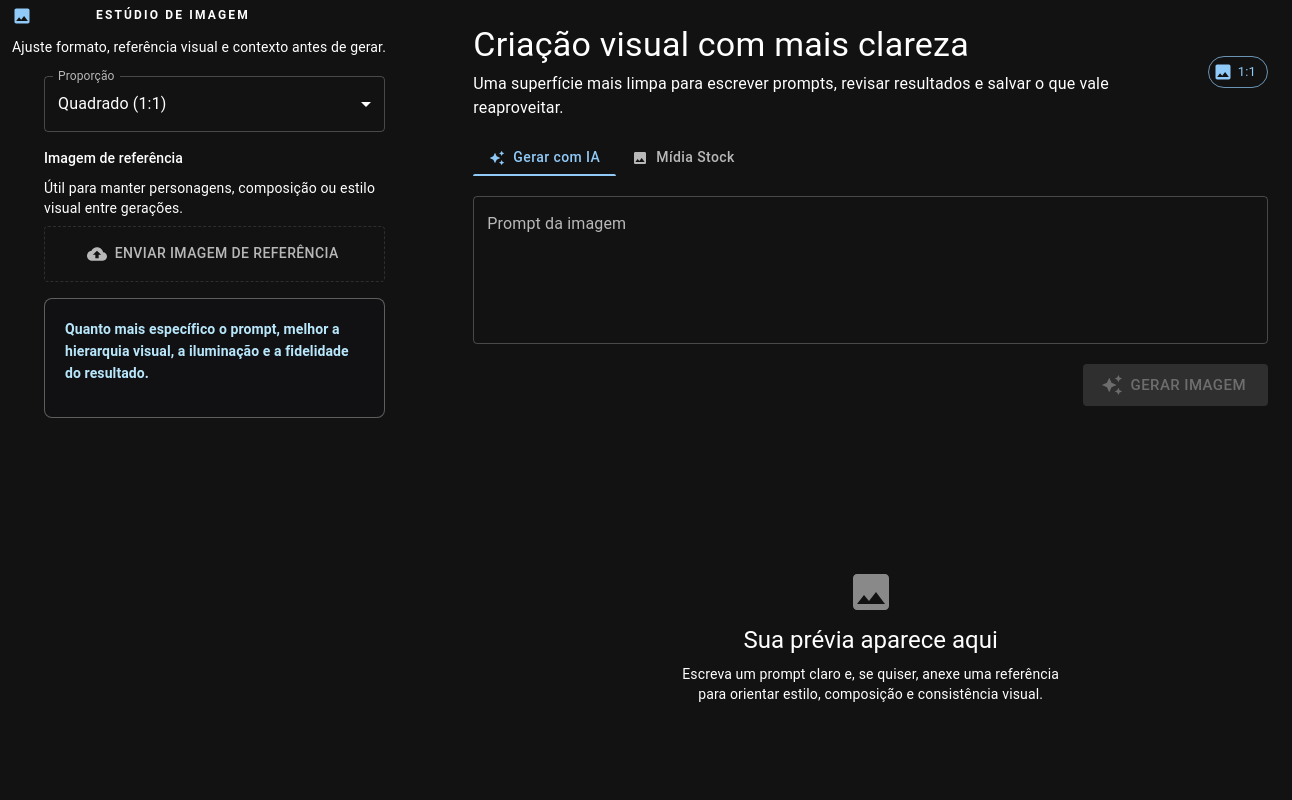
Scenario: ImageStudio › habilita o botão Gerar imagem quando há prompt
Type "X" into the text box with placeholder "Descreva a composição" at x=871, y=270, box left=487, top=212, right=1254, bottom=328
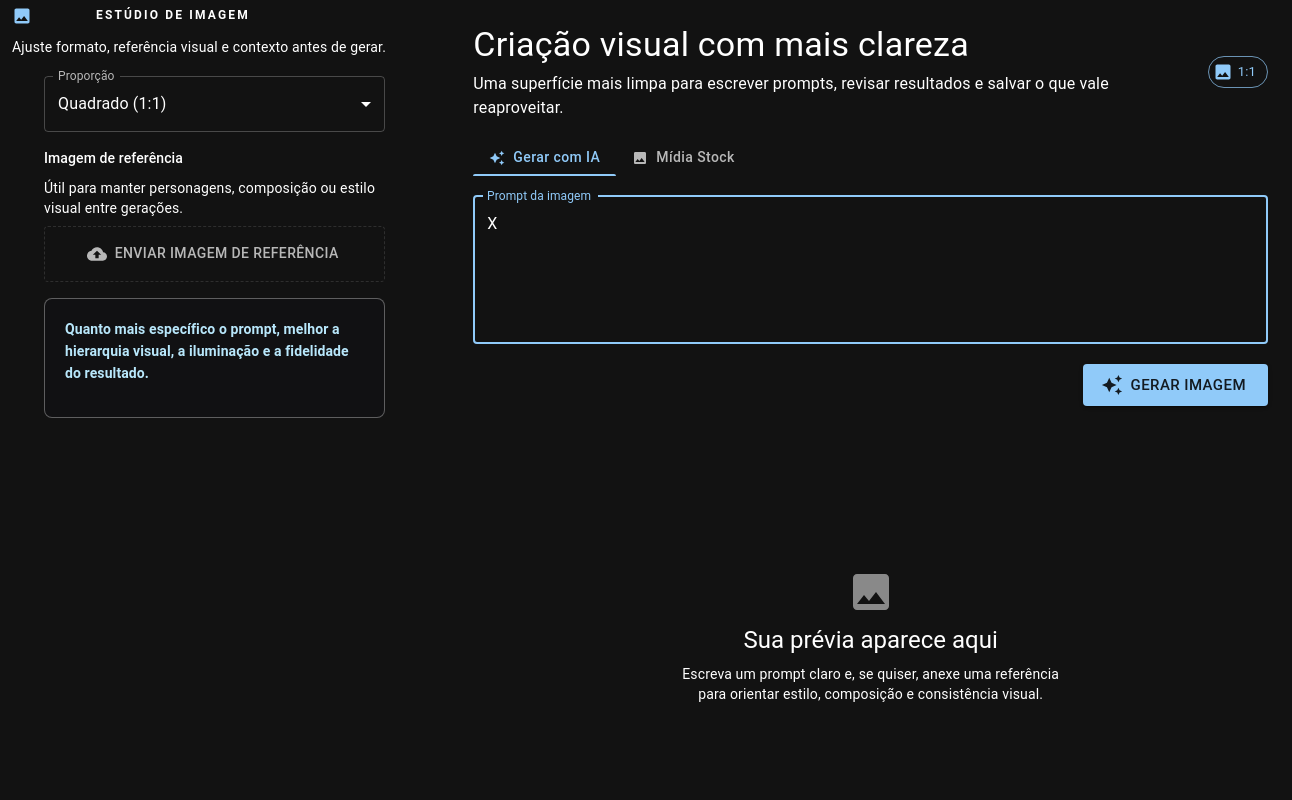
Result: the button "Gerar imagem" is enabled at left=1082, top=364, right=1268, bottom=406
